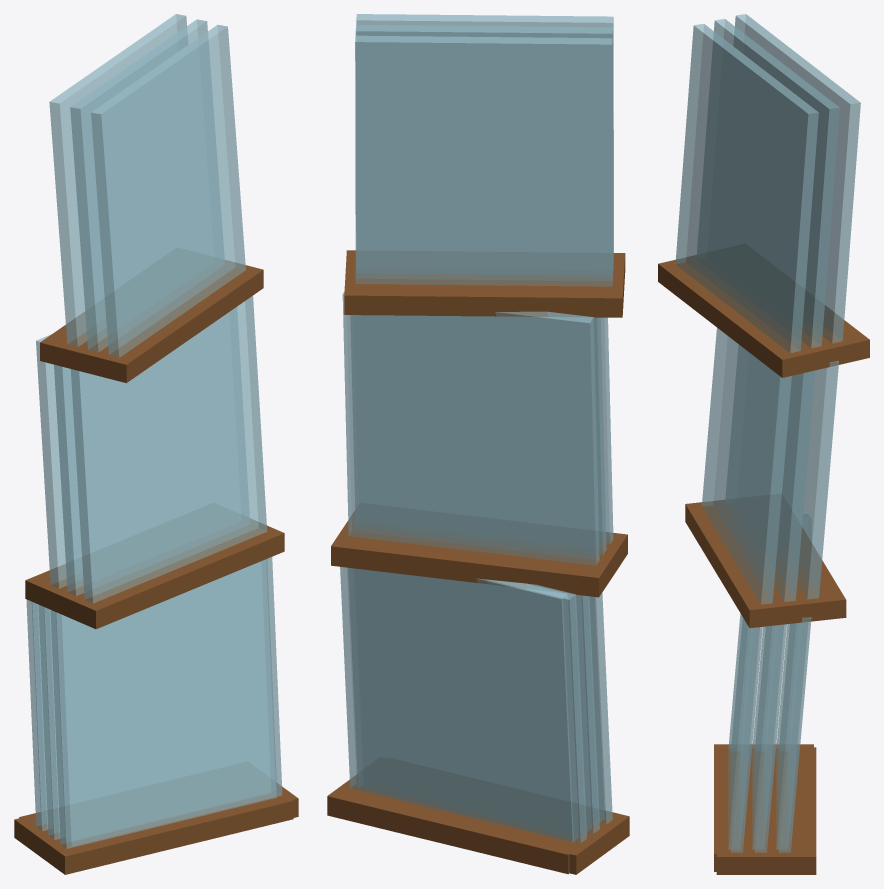
The model's file is Proc_Glass.fbx.
3 views of the same model, side by side, from view 1: azimuth 30°, elevation 25°; view 2: azimuth 150°, elevation 25°; view 3: azimuth 270°, elevation 25° (orthographic). The views are drawn at different scales.
Visible parts, largest first — view 1: Proc_Glass__Stack, Proc_Glass; view 2: Proc_Glass__Stack, Proc_Glass; view 3: Proc_Glass__Stack, Proc_Glass.
Part boxes in pixels (x1,y1,x2,y2): Proc_Glass__Stack: (19,14,298,845); Proc_Glass: (14,559,293,874); Proc_Glass__Stack: (327,14,627,874); Proc_Glass: (335,568,629,874); Proc_Glass__Stack: (658,14,869,874); Proc_Glass: (714,514,813,871).
Bounding box in the file's own units: 0.1405 × 0.4145 × 0.1062.
